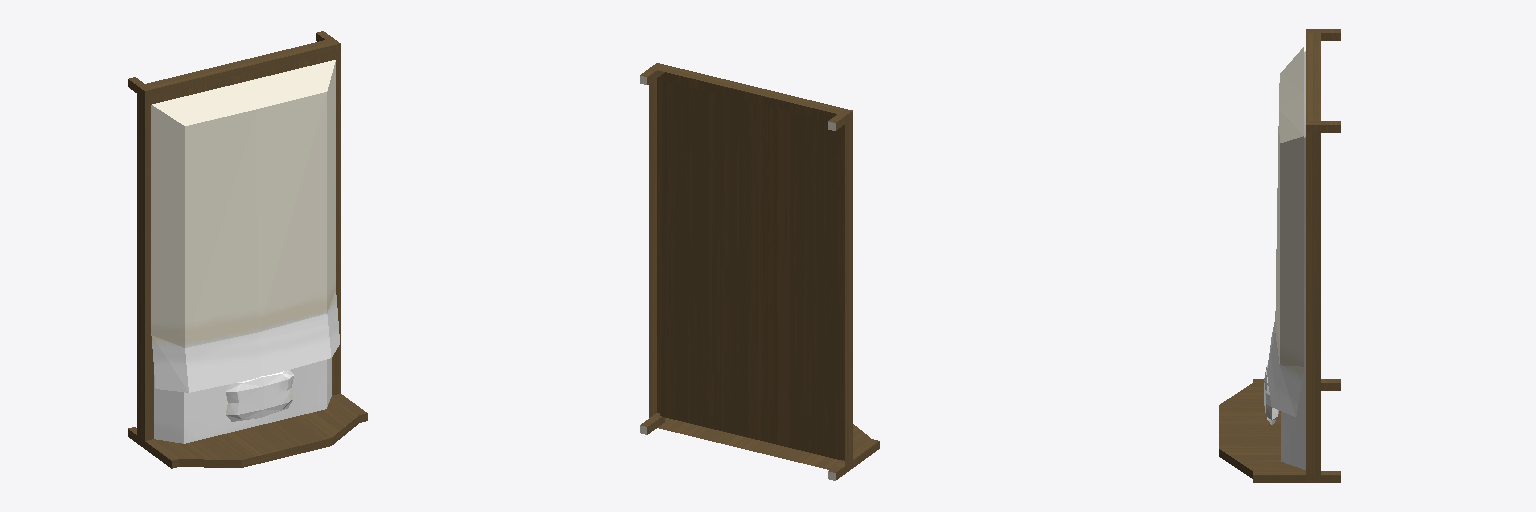
The picture shows the model from 3 angles: view 1: azimuth 30°, elevation 25°; view 2: azimuth 150°, elevation 25°; view 3: azimuth 270°, elevation 25°; orthographic projection.
Parts seen in each view (by area): view 1: Blanket, Frame, Matress, Pillow; view 2: Matress, Frame; view 3: Frame, Blanket, Matress.
Part boxes in pixels (left/top/right/bottom): Blanket: left=151, top=60, right=339, bottom=392; Frame: left=128, top=31, right=367, bottom=468; Matress: left=154, top=358, right=331, bottom=443; Pillow: left=226, top=370, right=293, bottom=421; Matress: left=660, top=80, right=844, bottom=460; Frame: left=640, top=63, right=879, bottom=480; Frame: left=1219, top=29, right=1340, bottom=482; Blanket: left=1267, top=47, right=1303, bottom=416; Matress: left=1281, top=51, right=1305, bottom=469.
Bounding box in the file's own units: 1.26 × 2.2 × 0.6766.
Materials: 1 (1 with a texture image).